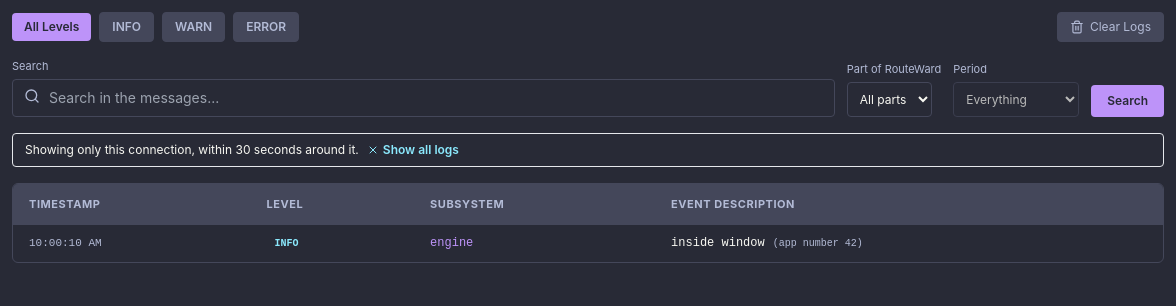
Test: LogsView filters and paging › opens pre-filtered on a connection with a window of 30 seconds
The image size is (1176, 306).
Expected: the text "other connection" is not shown
Expected: the text "inside window" is shown, x1=671 y1=236 x2=765 y2=250
Click the button "Show all logs".
click(413, 150)  # box x1=367 y1=142 x2=459 y2=158
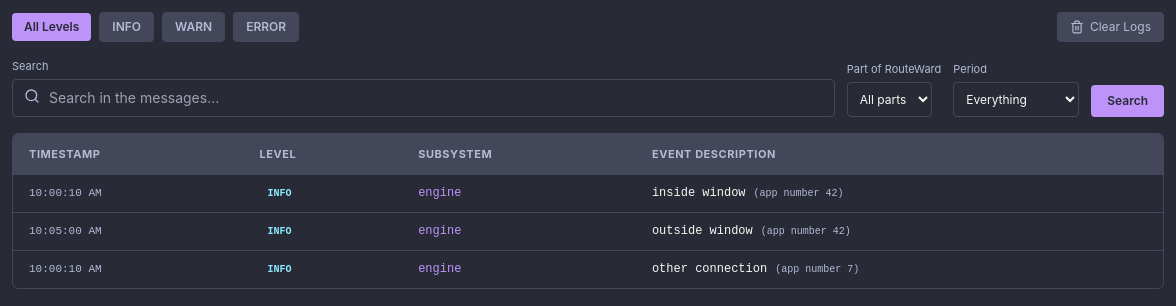
Now the text "outside window" is shown, box x1=652 y1=224 x2=753 y2=238
Now the text "other connection" is shown, box x1=652 y1=262 x2=767 y2=276
